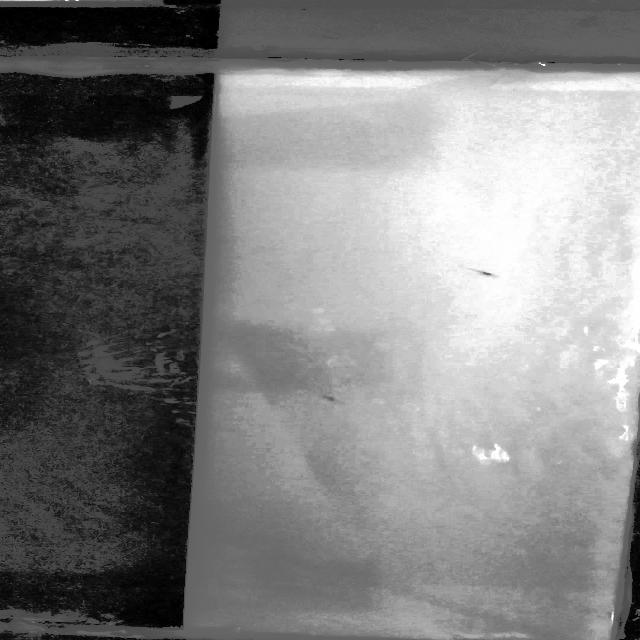shrimp: (459, 263, 507, 281), (316, 387, 341, 409)
